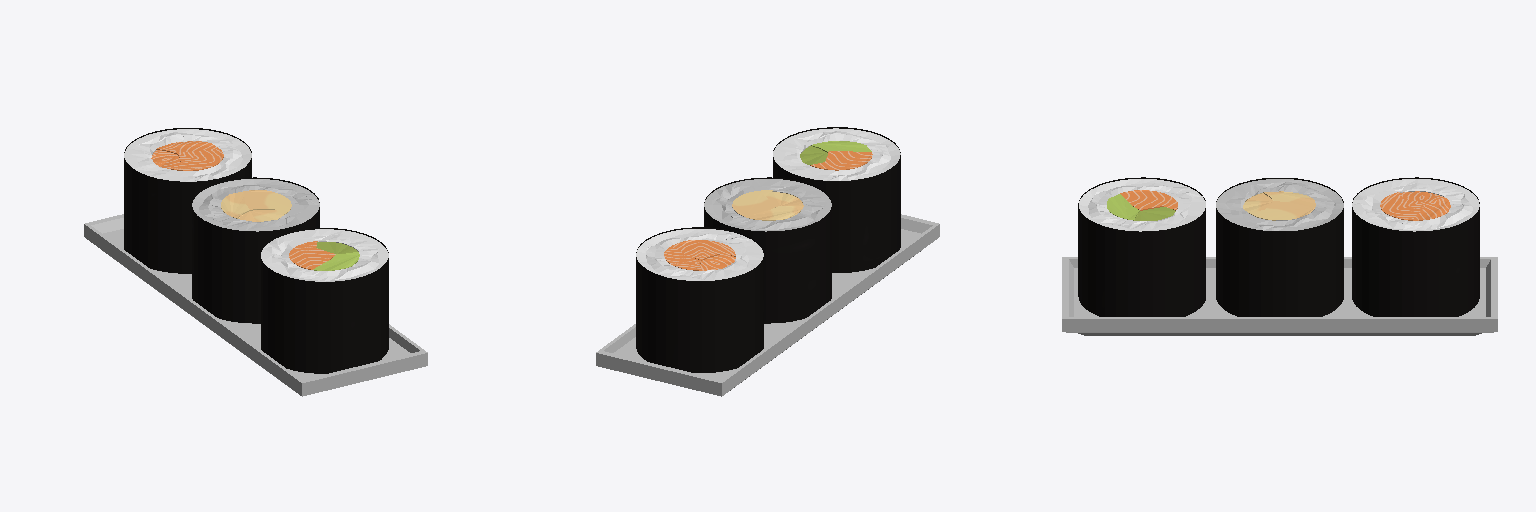
The picture shows the model from 3 angles: view 1: azimuth 30°, elevation 25°; view 2: azimuth 150°, elevation 25°; view 3: azimuth 270°, elevation 25°; orthographic projection.
Visible parts, largest first — view 1: Cylinder, Cylinder.002, Cylinder.001, Cube; view 2: Cylinder.001, Cylinder, Cylinder.002, Cube; view 3: Cylinder, Cylinder.001, Cylinder.002, Cube.
Boxes of the visible parts, box(x1,y1,x2,y2) form: Cylinder: box(261, 228, 388, 373); Cylinder.002: box(192, 177, 319, 323); Cylinder.001: box(124, 128, 251, 273); Cube: box(84, 214, 427, 396); Cylinder.001: box(636, 227, 763, 372); Cylinder: box(773, 127, 900, 272); Cylinder.002: box(704, 177, 831, 323); Cube: box(596, 214, 939, 396); Cylinder: box(1078, 177, 1205, 316); Cylinder.001: box(1352, 177, 1479, 316); Cylinder.002: box(1216, 178, 1343, 316); Cube: box(1062, 257, 1497, 335).
Size of the model in its own units: 2 by 1.58 by 6.
4 materials, 3 textured.